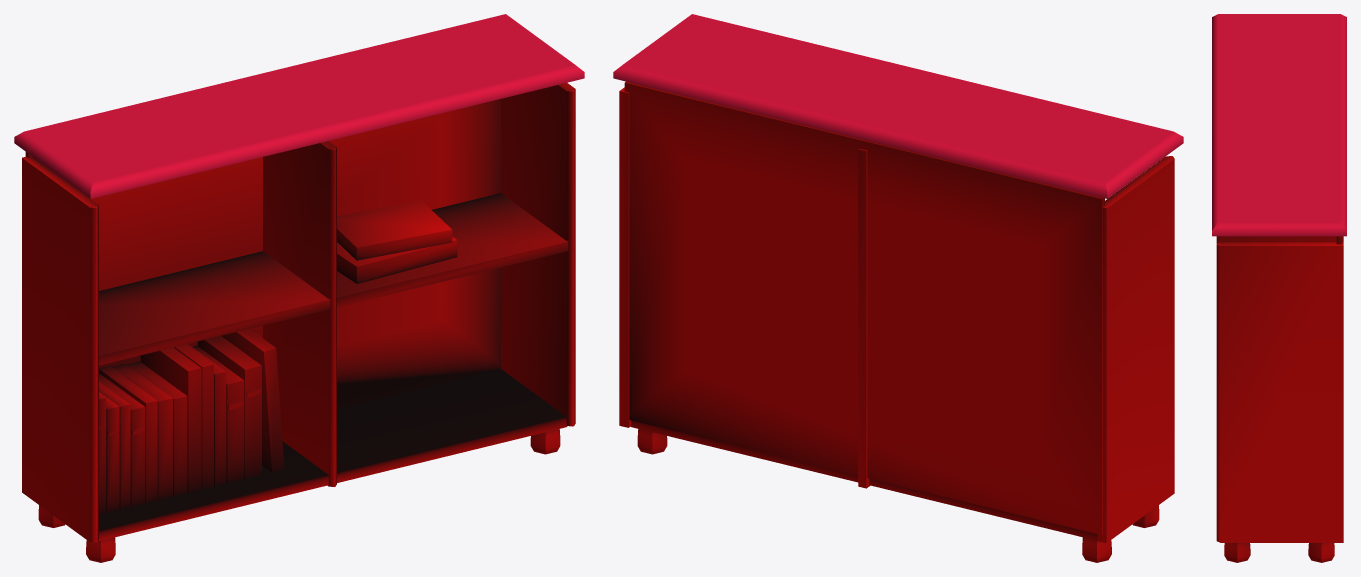
Rendered from CI_Living_Bookcase_Low.glb.
The picture shows the model from 3 angles, left to right: view 1: azimuth 30°, elevation 25°; view 2: azimuth 150°, elevation 25°; view 3: azimuth 270°, elevation 25°; orthographic projection. The views are drawn at different scales.
Parts seen in each view (by area): view 1: CI_Living_Bookcase_Low; view 2: CI_Living_Bookcase_Low; view 3: CI_Living_Bookcase_Low.
Part boxes in pixels (x1=…): CI_Living_Bookcase_Low: x1=14, y1=14, x2=584, y2=562; CI_Living_Bookcase_Low: x1=613, y1=14, x2=1183, y2=562; CI_Living_Bookcase_Low: x1=1212, y1=14, x2=1346, y2=562.
Bounding box in the file's own units: 1.2 × 0.9 × 0.32.
